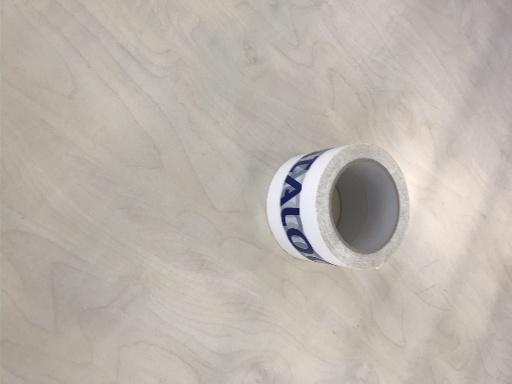Nastro: (266, 142, 411, 273)
